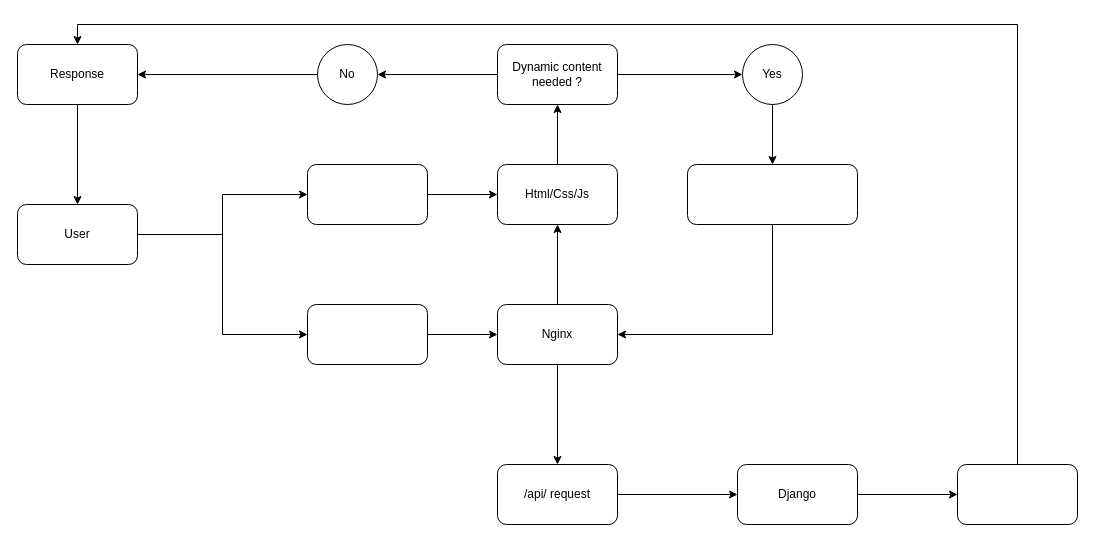
Image size: 1095x542. Some labels were removed from this diagram. The centre of each missing label's shape, as x and y in pixels:
"Get/Post request (localhost)" belongs at (367,334).
"Js fetch the request to nginx (url='https://.../api/...')" belongs at (772,194).
"JSON data" belongs at (1017,494).
"User interaction (SPA)" belongs at (367,194).
